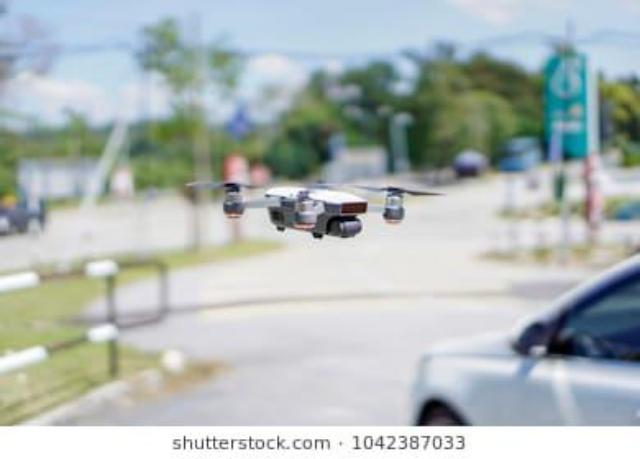drone: (180, 151, 456, 255)
